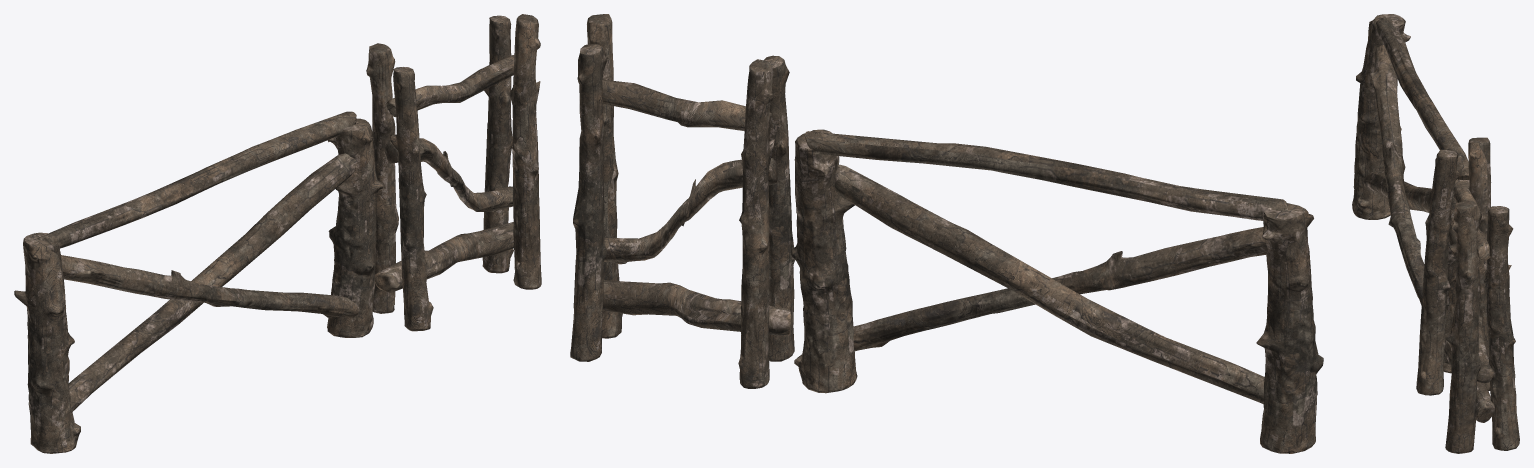
File: SM_Fence_01b_Splines_26.fbx
The picture shows the model from 3 angles, left to right: view 1: azimuth 30°, elevation 25°; view 2: azimuth 150°, elevation 25°; view 3: azimuth 270°, elevation 25°; orthographic projection. The views are drawn at different scales.
Visible parts, largest first — view 1: SM_Fence_01b_Splines_20_LOD0; view 2: SM_Fence_01b_Splines_20_LOD0; view 3: SM_Fence_01b_Splines_20_LOD0.
Part boxes in pixels (x1,y1,x2,y2): SM_Fence_01b_Splines_20_LOD0: [14, 14, 541, 453]; SM_Fence_01b_Splines_20_LOD0: [570, 14, 1323, 453]; SM_Fence_01b_Splines_20_LOD0: [1352, 14, 1519, 453].
Size of the model in its own units: 312 by 85.89 by 140.
